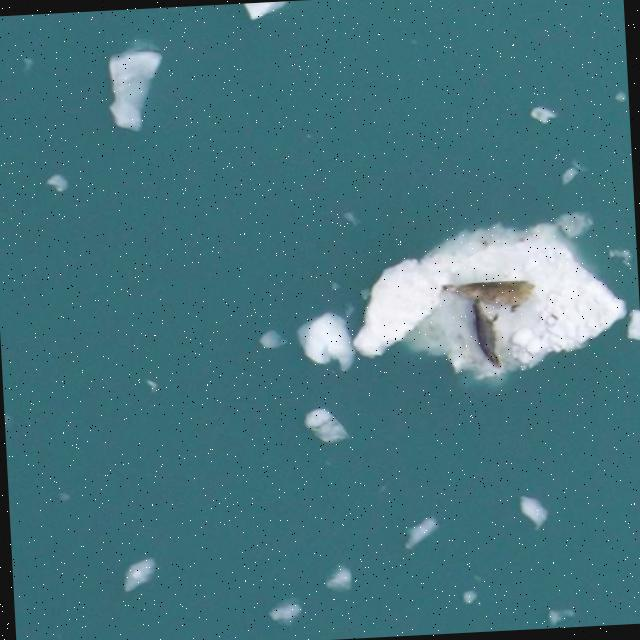seal: (440, 279, 535, 311), (473, 306, 502, 368)
